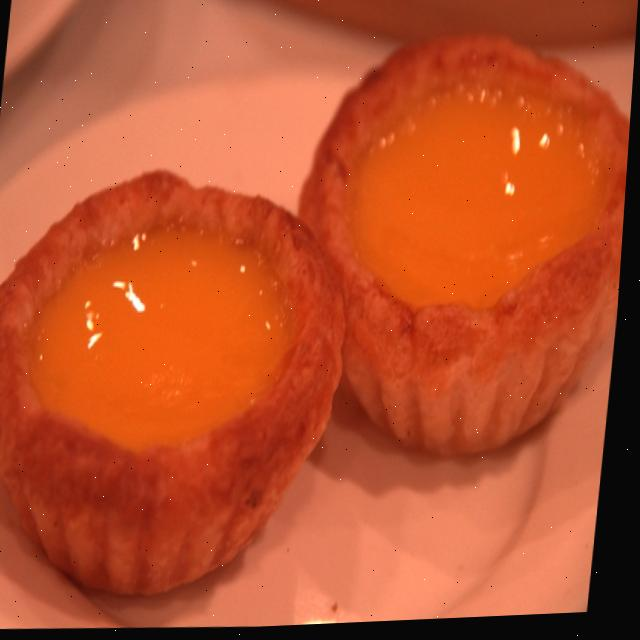炸货点心: (0, 0, 639, 628)
蛋糕甜品: (0, 0, 639, 628)
